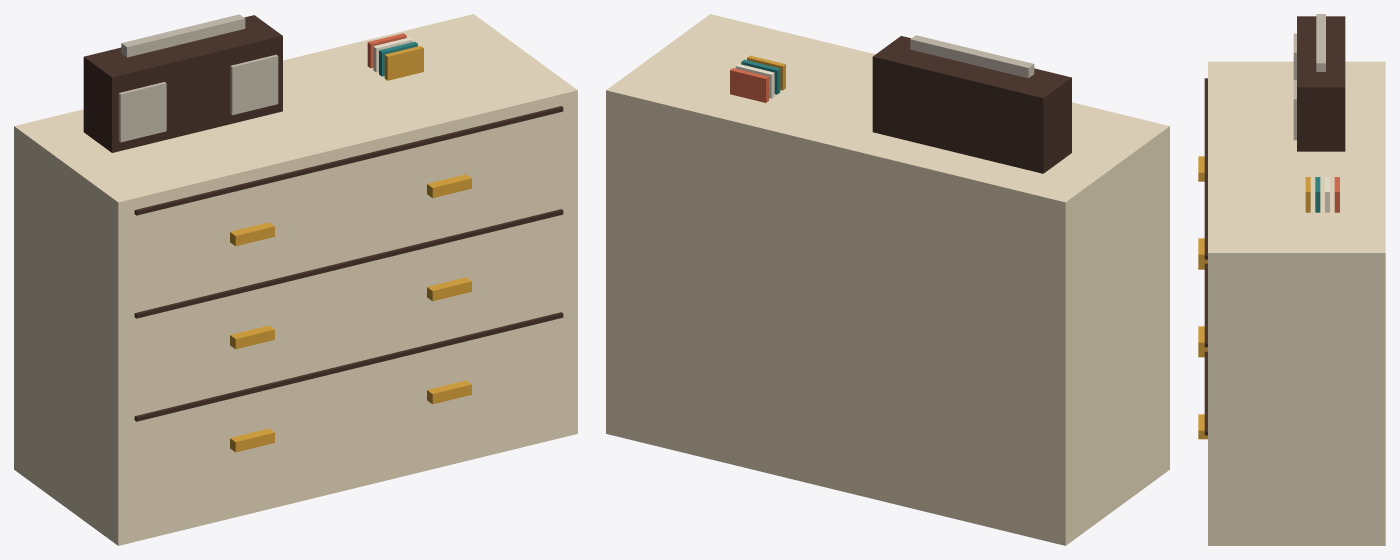
File: dresser.glb
3 renders of one model, left to right at view 1: azimuth 30°, elevation 25°; view 2: azimuth 150°, elevation 25°; view 3: azimuth 270°, elevation 25°, orthographic. The views are drawn at different scales.
Visible parts, largest first — view 1: Box1, Box11, Box5, Box8, Box2, Box13, Box12, Box14, Box18, Box3, Box4, Box6 (+3 smaller); view 2: Box1, Box11, Box14, Box15; view 3: Box1, Box11, Box8, Box14, Box2, Box5, Box13.
Boxes of the visible parts, box(x1,y1,x2,y2) form: Box1: box(14, 14, 577, 545); Box11: box(83, 15, 282, 152); Box5: box(134, 209, 563, 318); Box8: box(134, 106, 563, 215); Box2: box(134, 312, 563, 421); Box13: box(230, 54, 278, 115); Box12: box(118, 82, 166, 142); Box14: box(121, 14, 245, 57); Box18: box(384, 46, 423, 80); Box3: box(230, 428, 274, 452); Box4: box(427, 380, 471, 404); Box6: box(230, 325, 274, 349); Box1: box(606, 14, 1169, 545); Box11: box(872, 36, 1071, 173); Box14: box(910, 35, 1034, 78); Box15: box(730, 68, 768, 102); Box1: box(1208, 61, 1385, 545); Box11: box(1297, 16, 1345, 151); Box8: box(1204, 78, 1207, 259); Box14: box(1316, 14, 1325, 71); Box2: box(1204, 351, 1207, 435); Box5: box(1204, 263, 1207, 347); Box13: box(1293, 80, 1296, 140).
Bounding box in the file's own units: 1.4 × 1.26 × 0.58.
